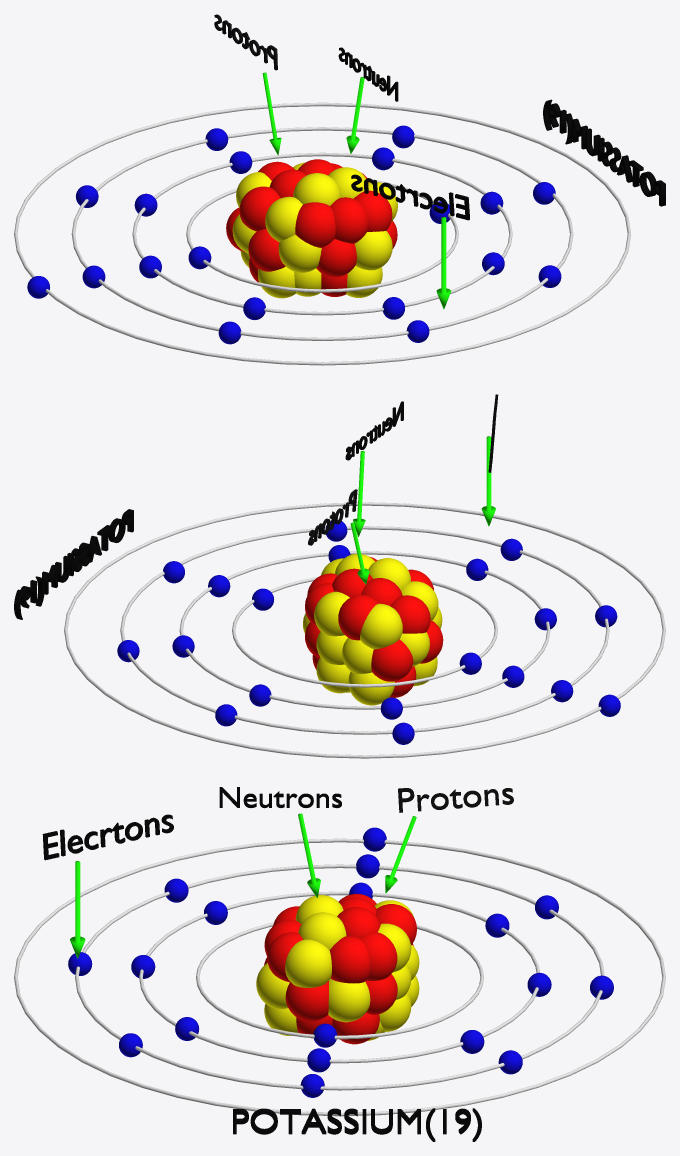
The model's file is Potassium Atomic Model.gltf.
3 renders of one model, top to bottom at view 1: azimuth 30°, elevation 25°; view 2: azimuth 150°, elevation 25°; view 3: azimuth 270°, elevation 25°, orthographic. The views are drawn at different scales.
Parts seen in each view (by area): view 1: Sphere.038, Torus.006, Torus.005, Torus.004, Text.003, Torus.003, Text, Text.001, Text.002, Cylinder.003; view 2: Sphere.038, Torus.006, Torus.005, Torus.004, Text.003, Torus.003, Text.002, Text.001, Cylinder.003; view 3: Sphere.038, Torus.006, Torus.005, Torus.004, Text.003, Torus.003, Text, Text.001, Text.002, Cylinder.003, Cylinder.001.
Boxes of the visible parts, x1,y1,x2,y2 form: Sphere.038: (226,159,397,298); Torus.006: (14,102,630,365); Torus.005: (71,127,573,340); Torus.004: (132,152,512,315); Text.003: (543,99,665,206); Torus.003: (186,179,458,292); Text: (351,174,469,220); Text.001: (214,14,277,70); Text.002: (338,47,398,101); Cylinder.003: (436,217,451,308); Sphere.038: (303,553,443,705); Torus.006: (64,502,665,758); Torus.005: (120,526,609,734); Torus.004: (179,551,550,709); Text.003: (14,509,133,619); Torus.003: (232,577,497,687); Text.002: (345,401,403,460); Text.001: (308,489,357,545); Cylinder.003: (481,436,495,526); Sphere.038: (256,893,419,1044); Torus.006: (14,838,665,1116); Torus.005: (75,864,604,1090); Torus.004: (139,891,539,1063); Text.003: (233,1108,481,1141); Torus.003: (196,922,483,1039); Text: (42,814,173,860); Text.001: (398,788,513,812); Text.002: (219,787,341,808); Cylinder.003: (70,861,85,958); Cylinder.001: (298,813,320,897).
Bounding box in the file's own units: 6.92 × 2.82 × 6.49.
